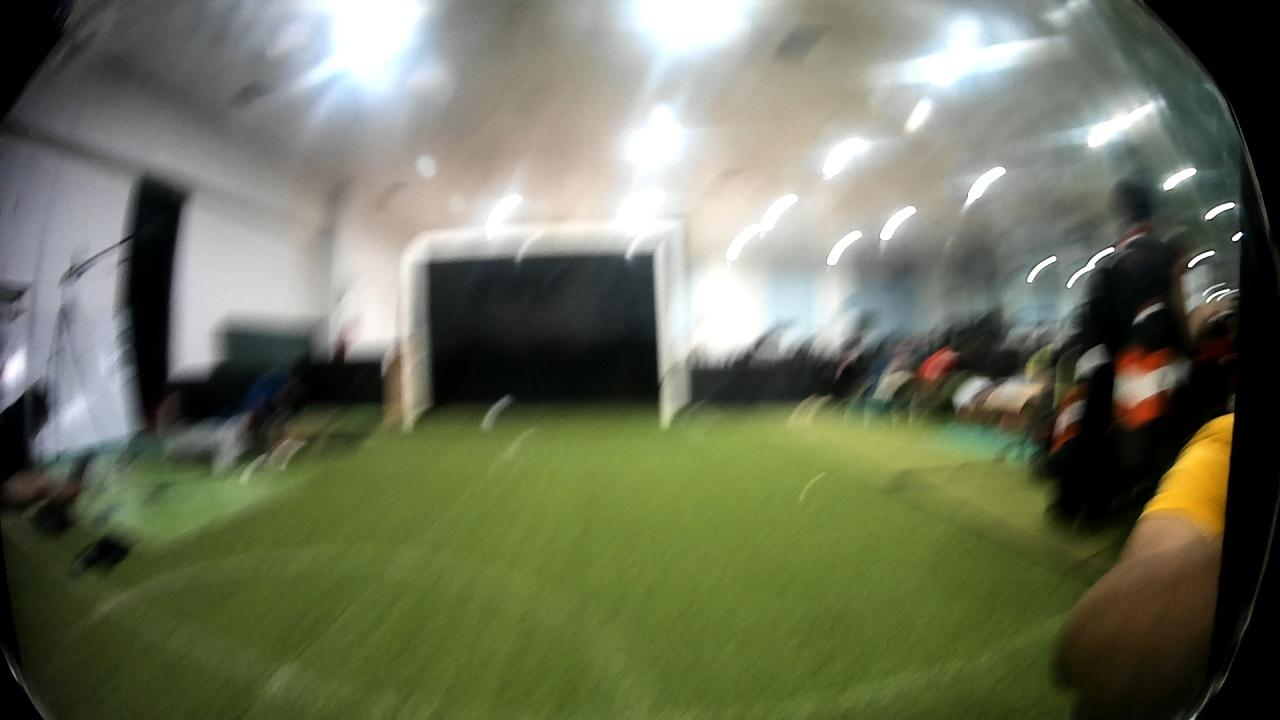ball: (476, 393, 513, 433)
